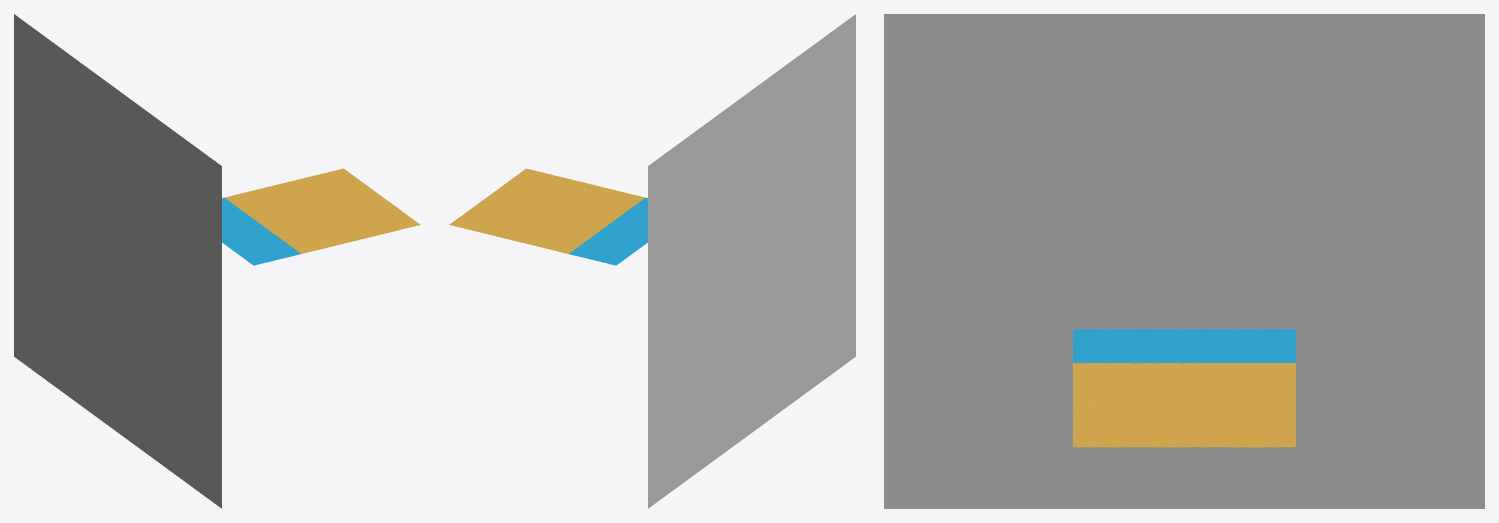
Rendered from kingdomCoast.glb.
3 renders of one model, left to right at view 1: azimuth 30°, elevation 25°; view 2: azimuth 150°, elevation 25°; view 3: azimuth 270°, elevation 25°, orthographic. The views are drawn at different scales.
Visible parts, largest first — view 1: Coast_Sky, Coast_Ground; view 2: Coast_Sky, Coast_Ground; view 3: Coast_Sky, Coast_Ground.
Part boxes in pixels (x1,y1,x2,y2): Coast_Sky: [14, 14, 221, 508]; Coast_Ground: [222, 168, 420, 265]; Coast_Sky: [648, 14, 855, 508]; Coast_Ground: [449, 168, 647, 265]; Coast_Sky: [884, 14, 1484, 508]; Coast_Ground: [1073, 329, 1295, 447].
Size of the model in its own units: 403 by 500 by 550.
